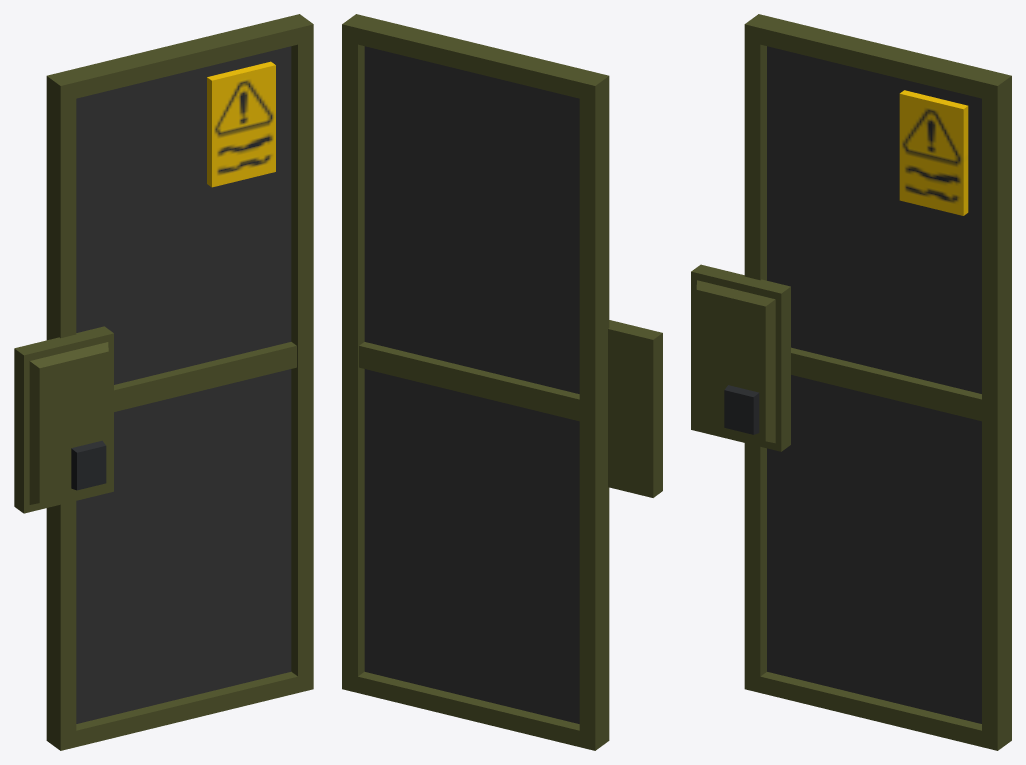
Rendered from SM_Prop_Gunlocker_Door_02.fbx.
3 views of the same model, side by side, from view 1: azimuth 30°, elevation 25°; view 2: azimuth 150°, elevation 25°; view 3: azimuth 330°, elevation 25° (orthographic).
Visible parts, largest first — view 1: SM_Prop_Gunlocker_Door_02; view 2: SM_Prop_Gunlocker_Door_02; view 3: SM_Prop_Gunlocker_Door_02.
Boxes of the visible parts, box(x1,y1,x2,y2) form: SM_Prop_Gunlocker_Door_02: box(14, 14, 313, 750); SM_Prop_Gunlocker_Door_02: box(342, 14, 662, 750); SM_Prop_Gunlocker_Door_02: box(691, 14, 1011, 750).
Bounding box in the file's own units: 78.63 × 167 × 14.78.
